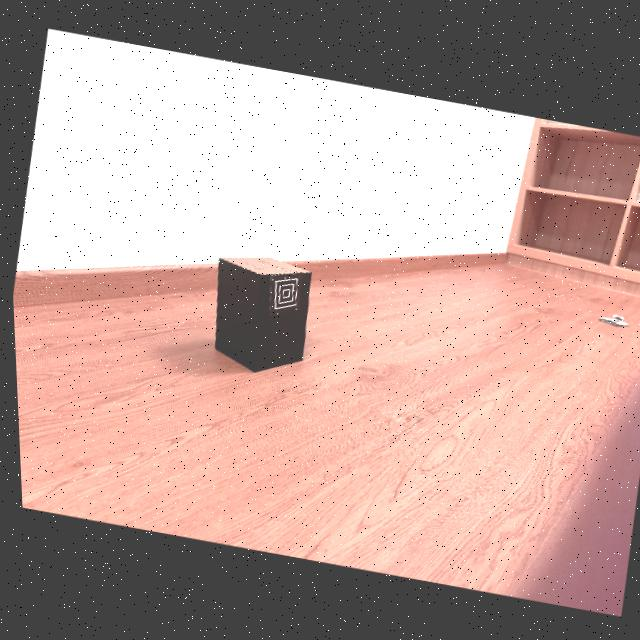BULLSEYE: (267, 272, 299, 314)
